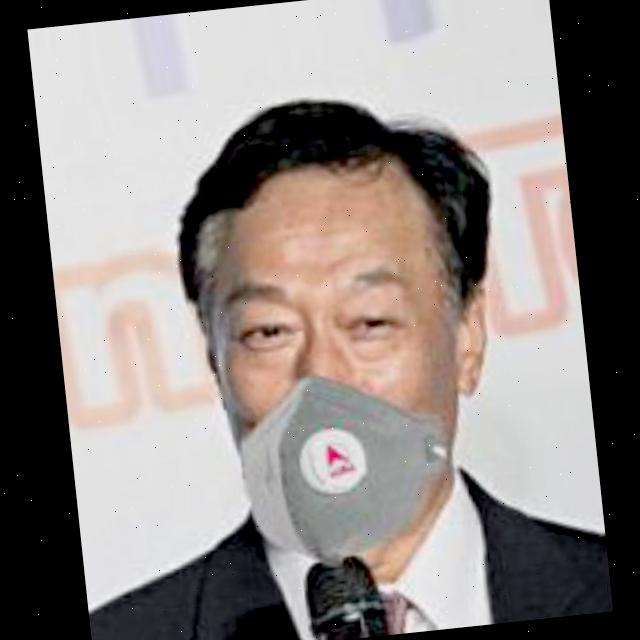suspicion: (175, 101, 510, 572)
